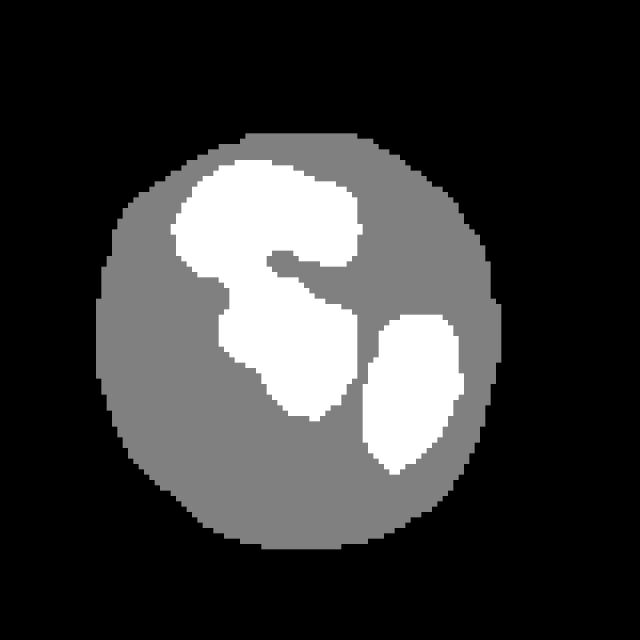WBC: (75, 128, 528, 560)
